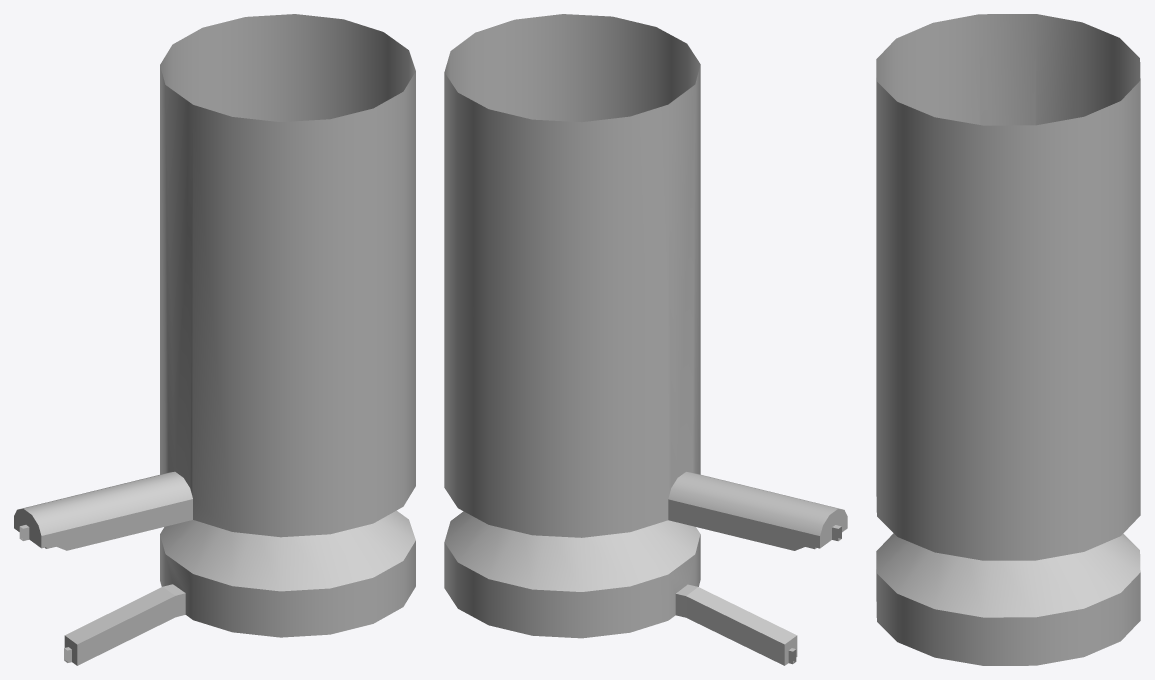
The model's file is chamber-a.FBX.
The picture shows the model from 3 angles, left to right: view 1: azimuth 30°, elevation 25°; view 2: azimuth 150°, elevation 25°; view 3: azimuth 270°, elevation 25°; orthographic projection. The views are drawn at different scales.
Parts seen in each view (by area): view 1: ChamberA; view 2: ChamberA; view 3: ChamberA.
Part boxes in pixels (box(x1,y1,x2,y2)): ChamberA: box(14, 14, 415, 665); ChamberA: box(444, 14, 847, 665); ChamberA: box(876, 14, 1140, 665).
Bounding box in the file's own units: 127 × 174 × 73.41.
